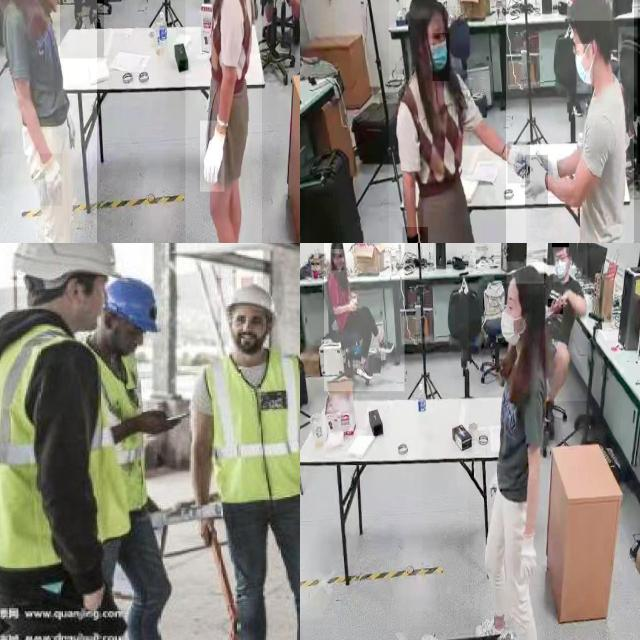face_mask: (495, 289, 522, 348), (432, 33, 450, 81), (576, 44, 592, 94), (553, 247, 569, 282)
face_nomask: (230, 310, 266, 349), (332, 254, 344, 272)
hand_glove: (513, 524, 545, 588), (200, 120, 225, 192), (532, 140, 562, 184), (40, 153, 63, 207), (525, 155, 549, 206), (508, 142, 530, 184), (402, 227, 428, 243)
hand_noglove: (137, 404, 183, 440), (195, 513, 221, 548), (558, 287, 572, 308), (548, 299, 564, 315), (349, 297, 357, 312)
head_nohelmet: (11, 243, 125, 292), (104, 273, 162, 335), (225, 282, 279, 316), (567, 0, 613, 21), (405, 0, 448, 20), (506, 262, 544, 284), (330, 243, 343, 250), (552, 243, 569, 248)
person: (0, 243, 137, 640), (176, 285, 300, 640), (389, 0, 526, 243), (505, 0, 634, 243), (468, 261, 549, 640), (0, 0, 97, 243), (185, 0, 262, 243), (324, 243, 405, 392), (545, 243, 588, 402), (59, 0, 104, 58)
vest: (0, 324, 130, 565), (202, 351, 300, 501)
